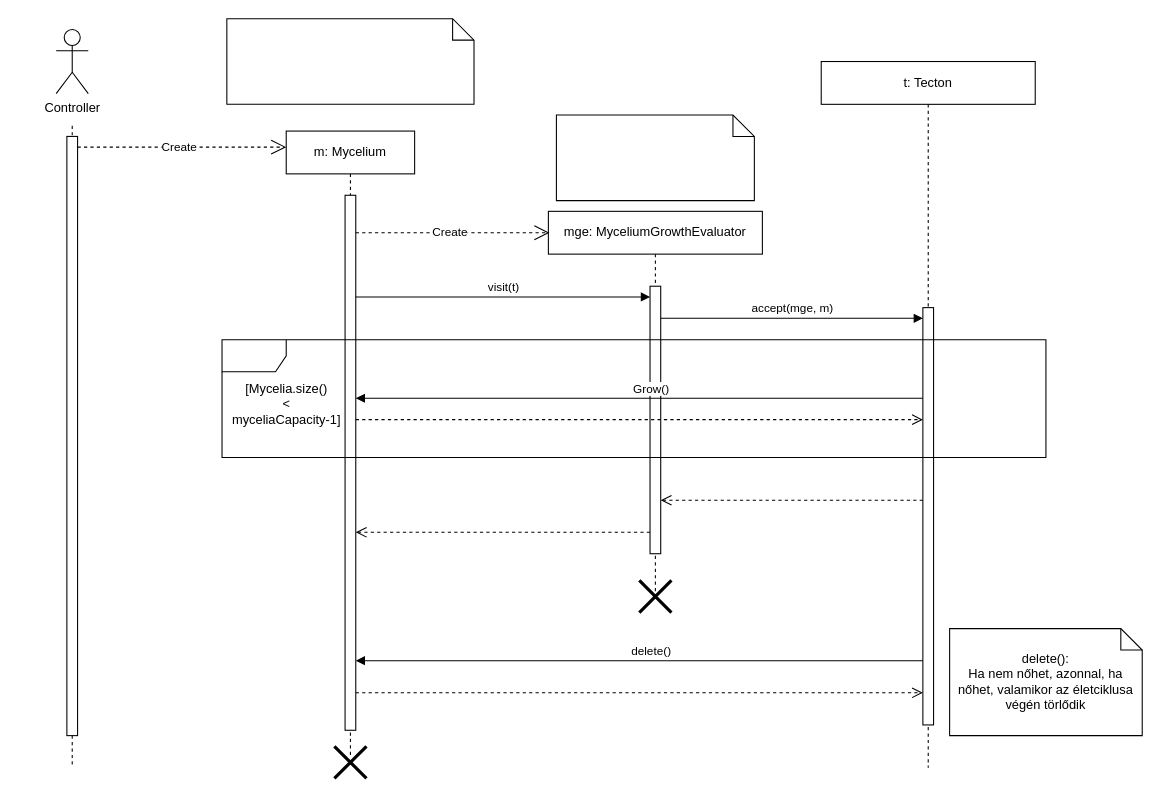
Image size: 1161x798. Some labels were removed from this diagram. The centre of each missing label's shape, as x and y in pixels:
"m megkapja a konstruktorában a t tectont ahova nőni szeretne" goes at point 350,61.
"mge megkapja konstruktorában az m Mycelium-ot amihez tartozik" goes at point 654,157.
"opt" goes at point 633,398.
